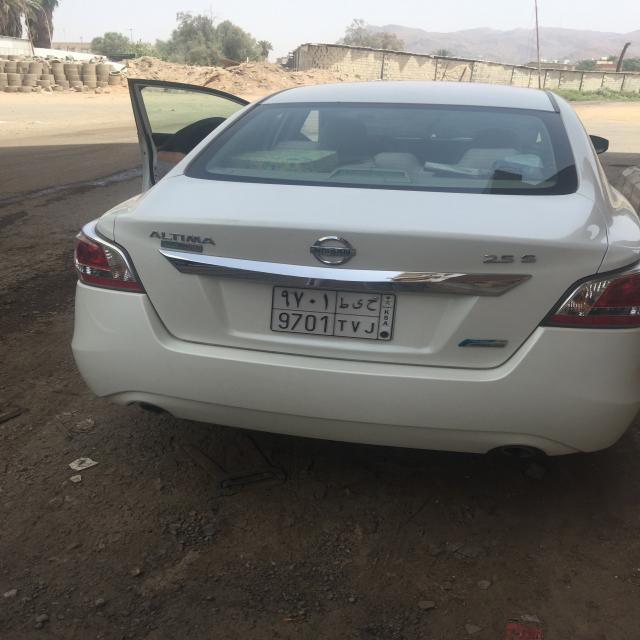license_plate: (269, 285, 398, 342)
